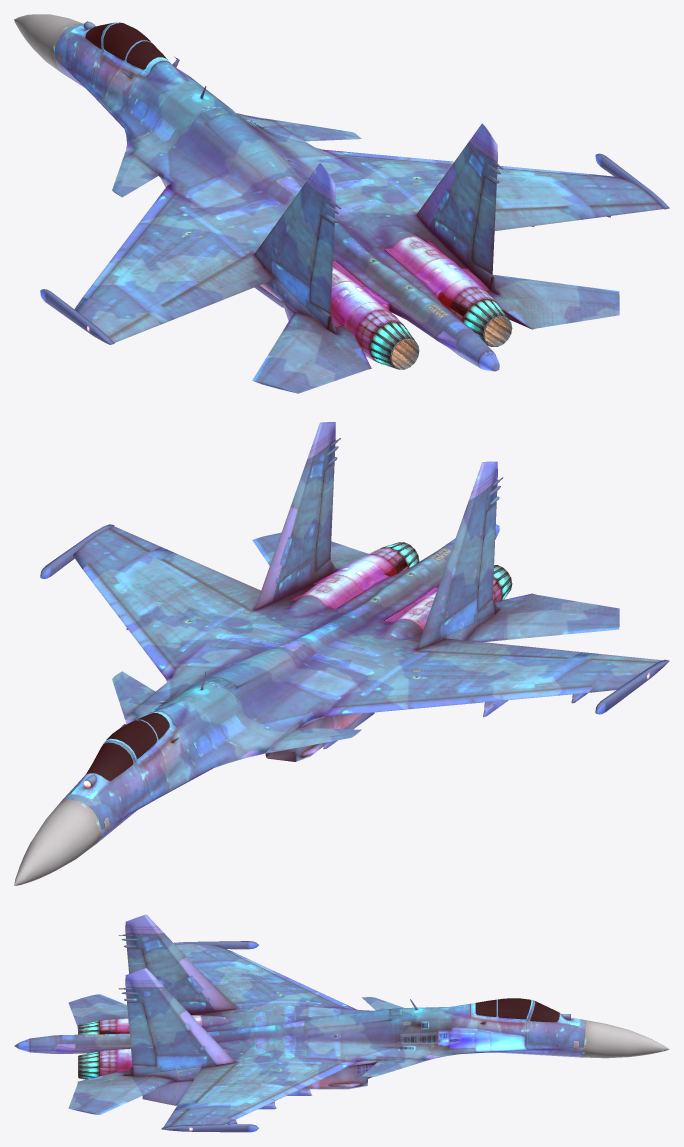
The picture shows the model from 3 angles, top to bottom: view 1: azimuth 30°, elevation 25°; view 2: azimuth 150°, elevation 25°; view 3: azimuth 270°, elevation 25°; orthographic projection. The views are drawn at different scales.
Visible parts, largest first — view 1: SU-37_LOD0, SU-37_ElevatorL01, SU-37_ElevatorR01, SU-37_FlapL01, SU-37_BrakeL01, SU-37_Glass01, SU-37_EngineL01, SU-37_RudderR01, SU-37_RudderL01, SU-37_VoletL01, SU-37_EngineR01, SU-37_FlapR01 (+6 smaller); view 2: SU-37_LOD0, SU-37_ElevatorL01, SU-37_VoletL01, SU-37_Glass01, SU-37_VoletR01, SU-37_FlapR01, SU-37_FlapL01, SU-37_BrakeL01, SU-37_RudderL01, SU-37_RudderR01, SU-37_CanardL01, SU-37_ElevatorR01 (+1 smaller); view 3: SU-37_LOD0, SU-37_ElevatorR01, SU-37_Glass01, SU-37_RudderR01, SU-37_ElevatorL01, SU-37_VoletR01, SU-37_FlapR01, SU-37_BrakeL01, SU-37_VoletL01, SU-37_CanardR01, SU-37_EngineR01, SU-37_RudderL01 (+1 smaller).
Part boxes in pixels (x1,y1,x2,y2): SU-37_LOD0: (14,14,669,371); SU-37_ElevatorL01: (252,312,371,393); SU-37_ElevatorR01: (486,274,619,329); SU-37_FlapL01: (161,253,275,318); SU-37_BrakeL01: (201,108,294,182); SU-37_Glass01: (85,23,167,69); SU-37_EngineL01: (369,321,419,369); SU-37_RudderR01: (472,175,496,274); SU-37_RudderL01: (310,215,334,314); SU-37_VoletL01: (82,188,179,299); SU-37_EngineR01: (462,299,512,346); SU-37_FlapR01: (416,206,581,230); SU-37_LOD0: (14,422,669,885); SU-37_ElevatorL01: (466,593,619,642); SU-37_VoletL01: (322,683,596,717); SU-37_Glass01: (86,713,169,781); SU-37_VoletR01: (82,561,179,678); SU-37_FlapR01: (161,553,260,611); SU-37_FlapL01: (416,638,581,658); SU-37_BrakeL01: (201,647,294,688); SU-37_RudderL01: (477,501,496,611); SU-37_RudderR01: (315,462,334,572); SU-37_CanardL01: (265,727,361,753); SU-37_ElevatorR01: (252,532,368,572); SU-37_LOD0: (14,914,669,1132); SU-37_ElevatorR01: (68,1067,176,1114); SU-37_Glass01: (475,998,559,1022); SU-37_RudderR01: (127,1001,156,1066); SU-37_ElevatorL01: (68,994,128,1028); SU-37_VoletR01: (225,1059,358,1119); SU-37_FlapR01: (178,1062,237,1104); SU-37_BrakeL01: (305,1008,399,1028); SU-37_VoletL01: (225,950,357,1009); SU-37_CanardR01: (362,1058,424,1076); SU-37_EngineR01: (78,1051,99,1079); SU-37_RudderL01: (127,948,148,973).
Size of the model in its own units: 14.27 by 5.02 by 21.41.
4 materials, 4 textured.
